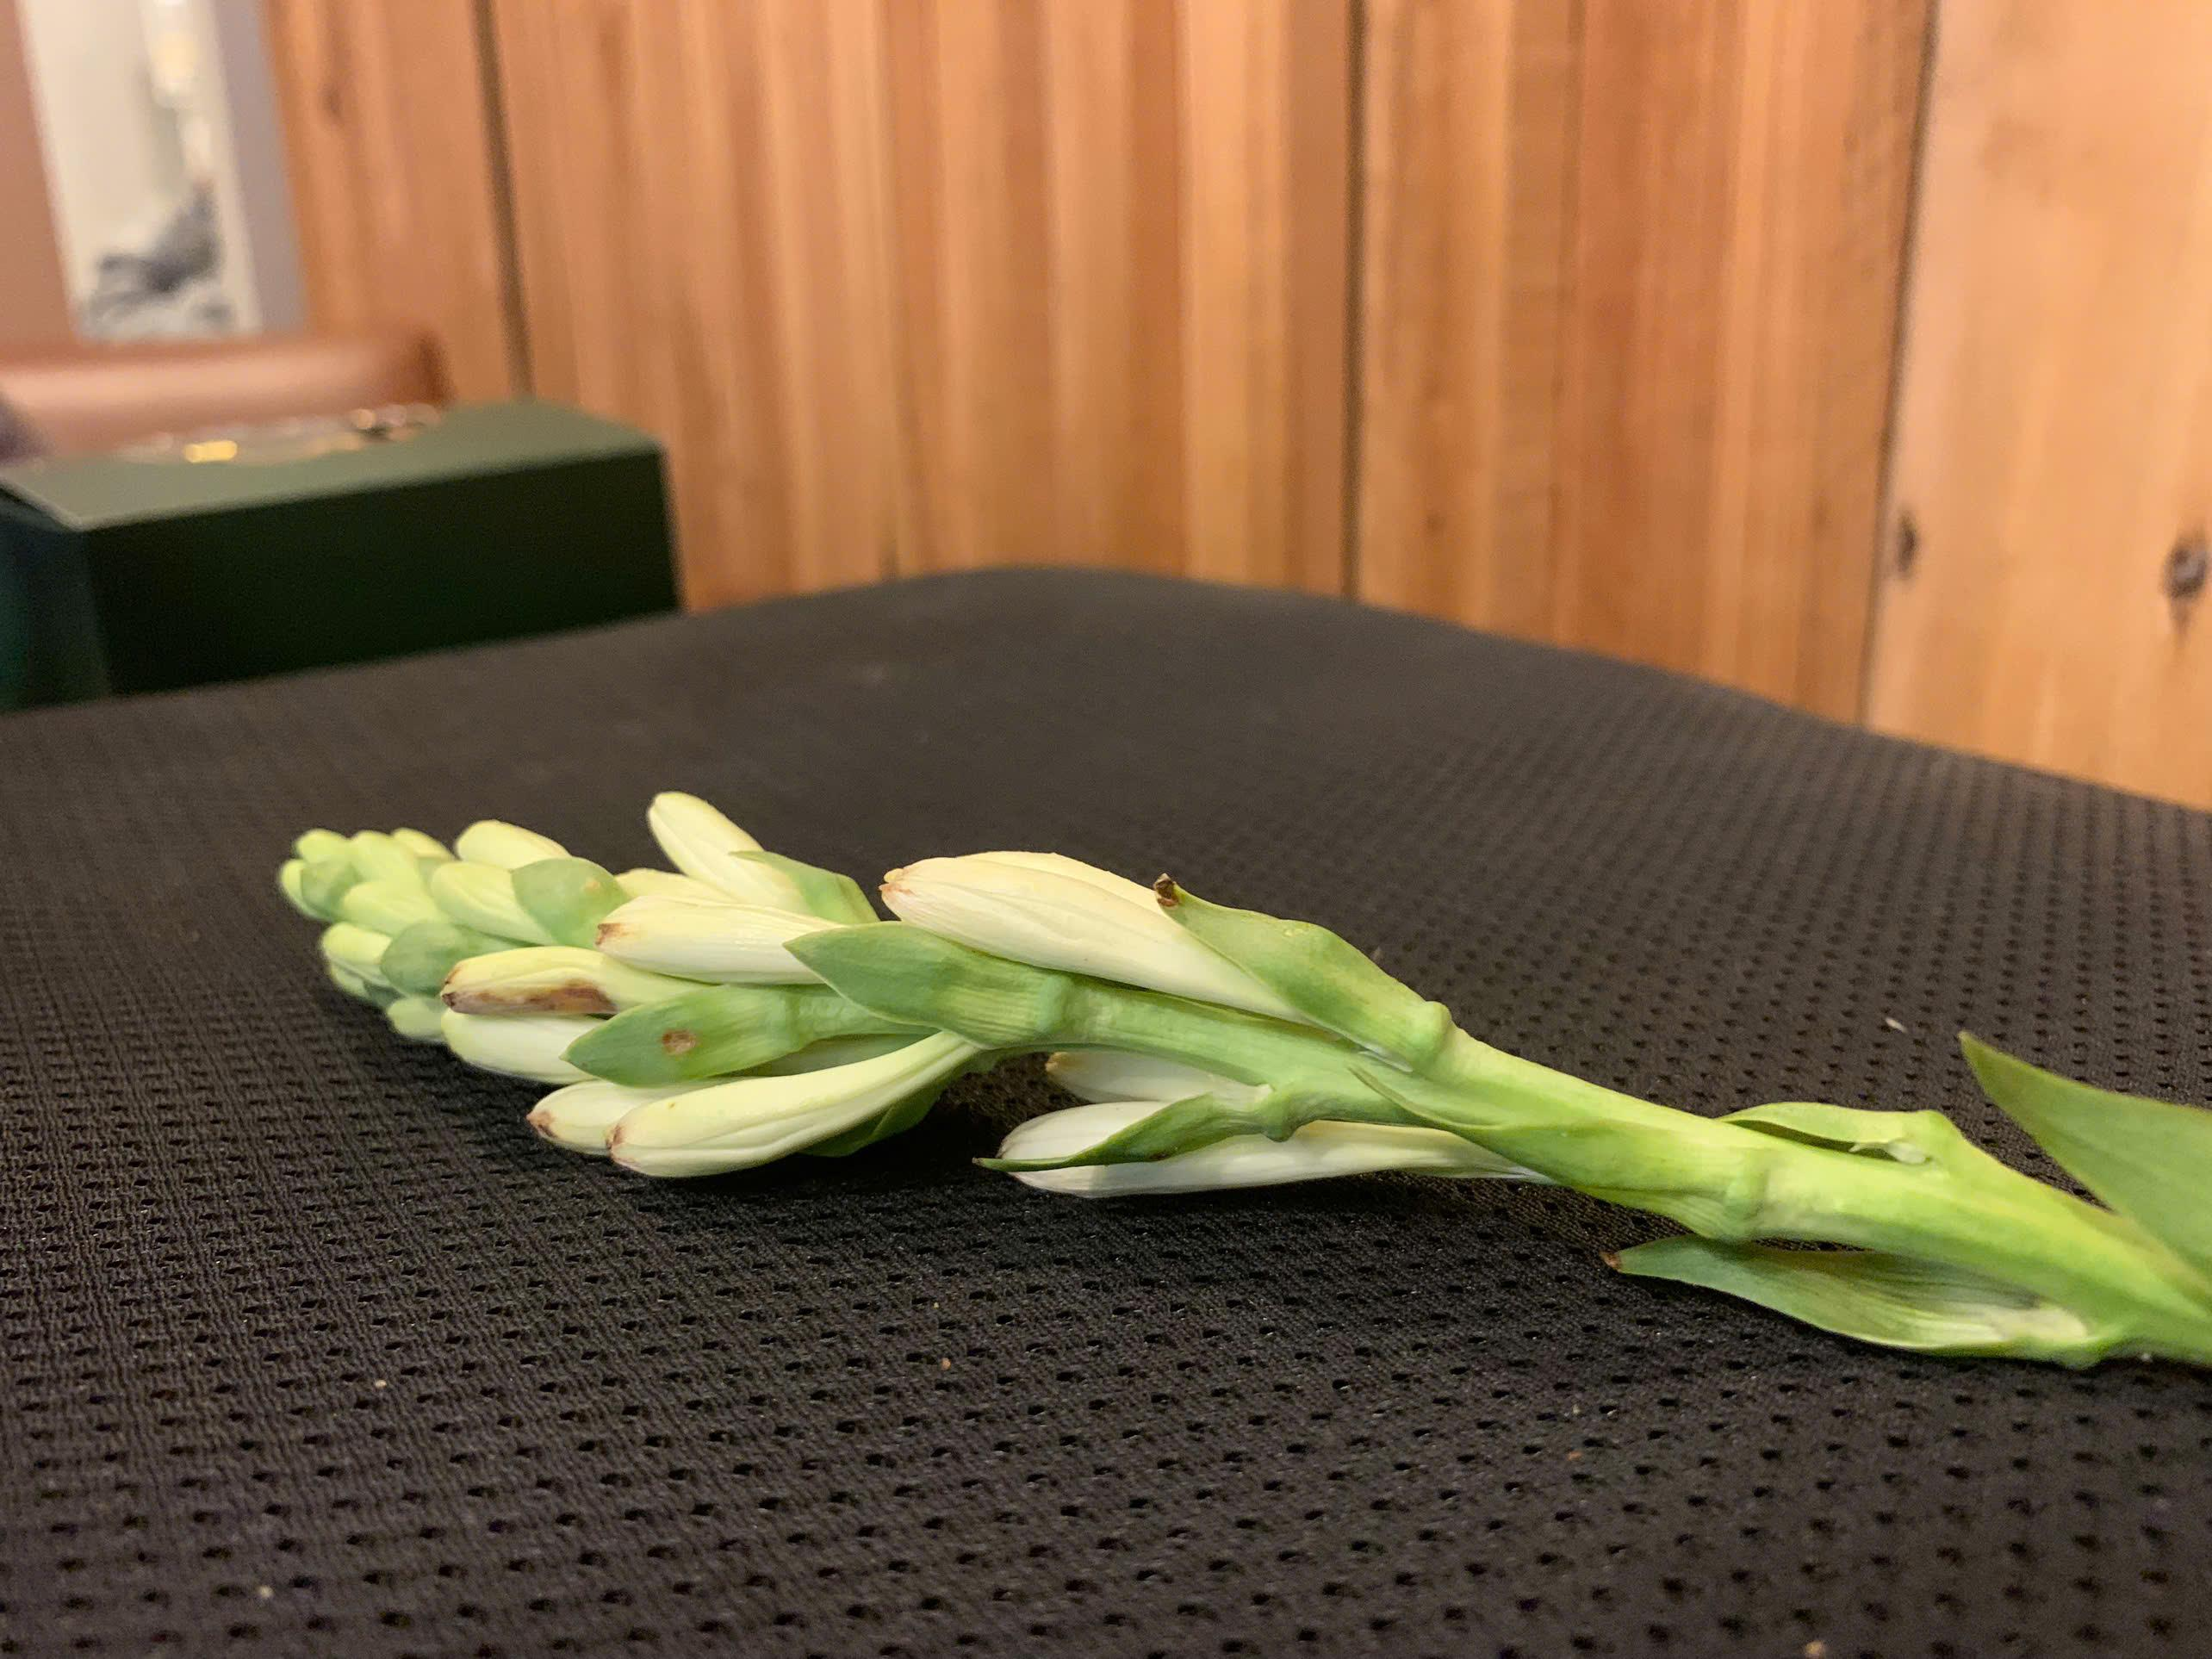Huu co: (261, 793, 2212, 1358)
